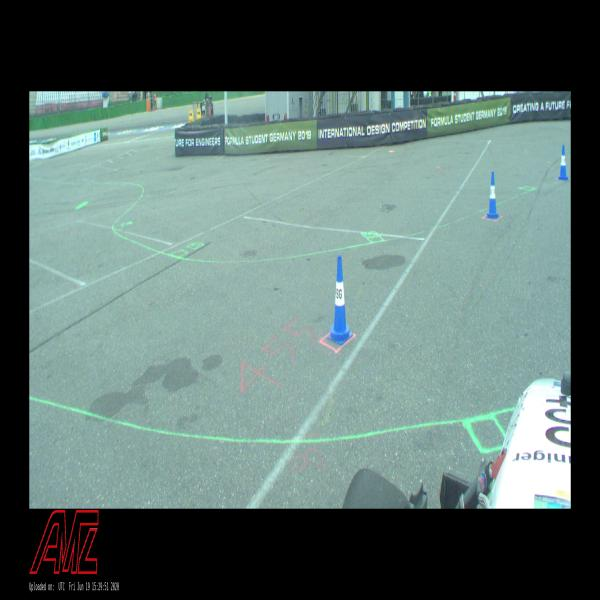blue_cone: (327, 255, 352, 345), (486, 172, 499, 219), (559, 145, 568, 180)
